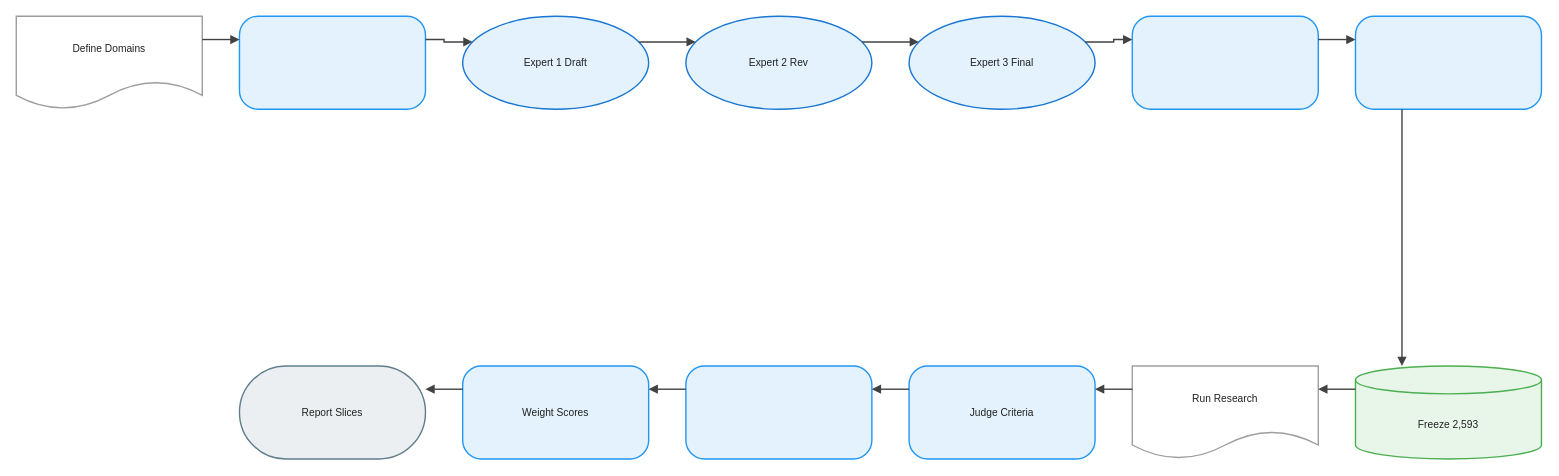
This 1559x476 diagram has some shape labels left out. Here are the shapes that lost their labels. From the top down, the box of each, then its label:
(238, 15, 426, 110): Select 101
(1131, 15, 1319, 110): Classify Axes
(1354, 15, 1542, 110): Set Weights
(685, 365, 872, 459): Grade Rubrics
